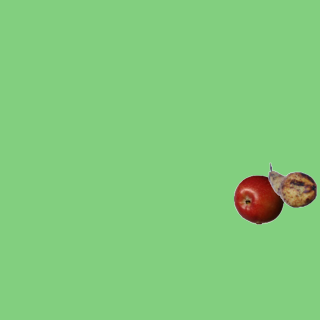Apple Braeburn: (233, 174, 283, 224)
Pear Abate: (267, 160, 317, 210)
